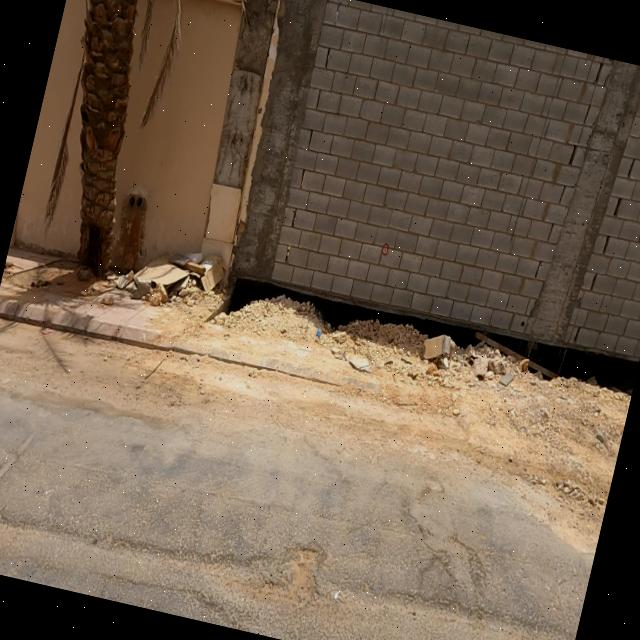Graffiti: (377, 240, 394, 258)
